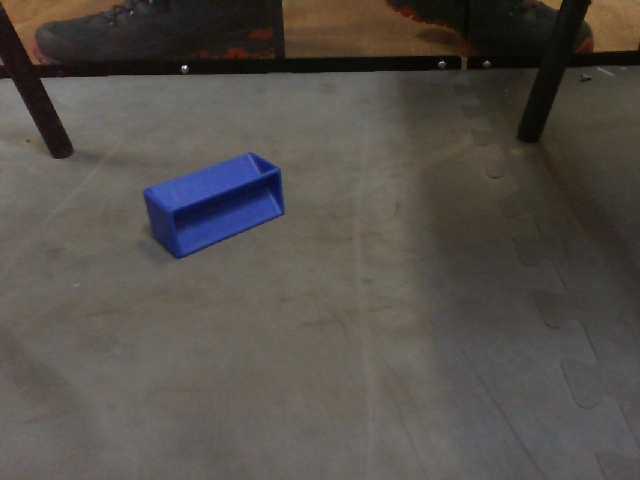BlueSample: (141, 149, 287, 259)
